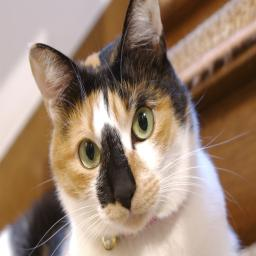catnose: (110, 184, 137, 212)
